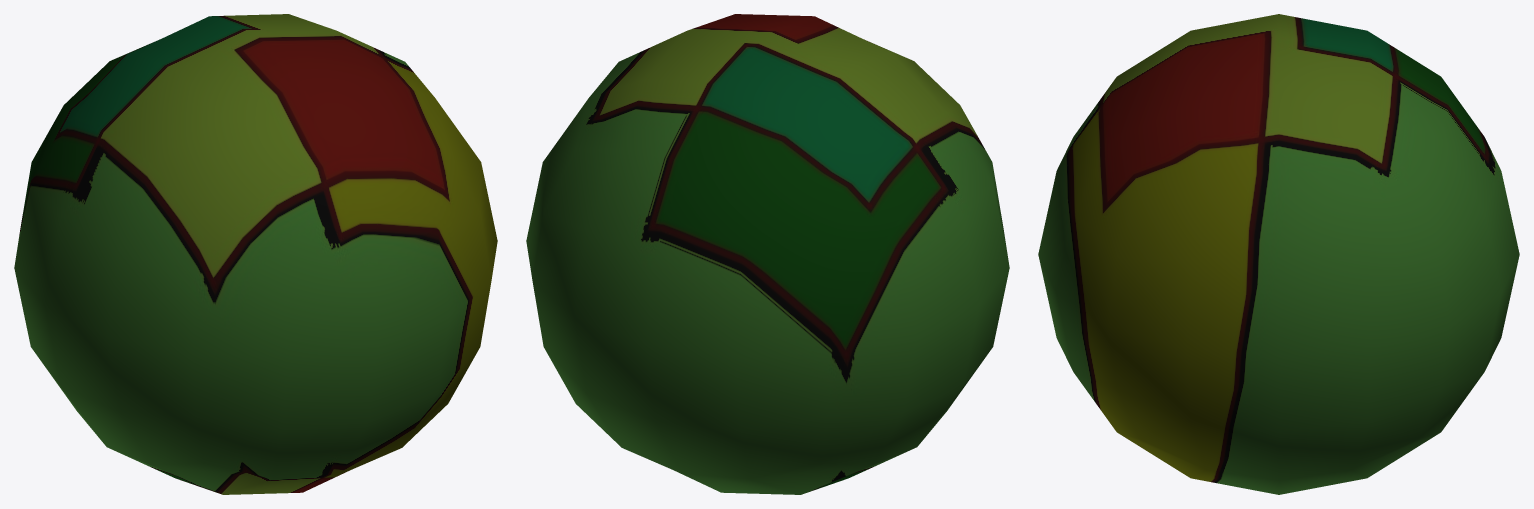
Rendered from modelo.glb.
The picture shows the model from 3 angles, left to right: view 1: azimuth 30°, elevation 25°; view 2: azimuth 150°, elevation 25°; view 3: azimuth 270°, elevation 25°; orthographic projection.
Visible parts, largest first — view 1: Cube; view 2: Cube; view 3: Cube.
Part boxes in pixels (bbox=[...]): Cube: bbox=[14, 14, 497, 494]; Cube: bbox=[526, 14, 1009, 494]; Cube: bbox=[1038, 14, 1519, 494].
Size of the model in its own units: 2.66 by 2.66 by 2.66.
Materials: 1 (1 with a texture image).
